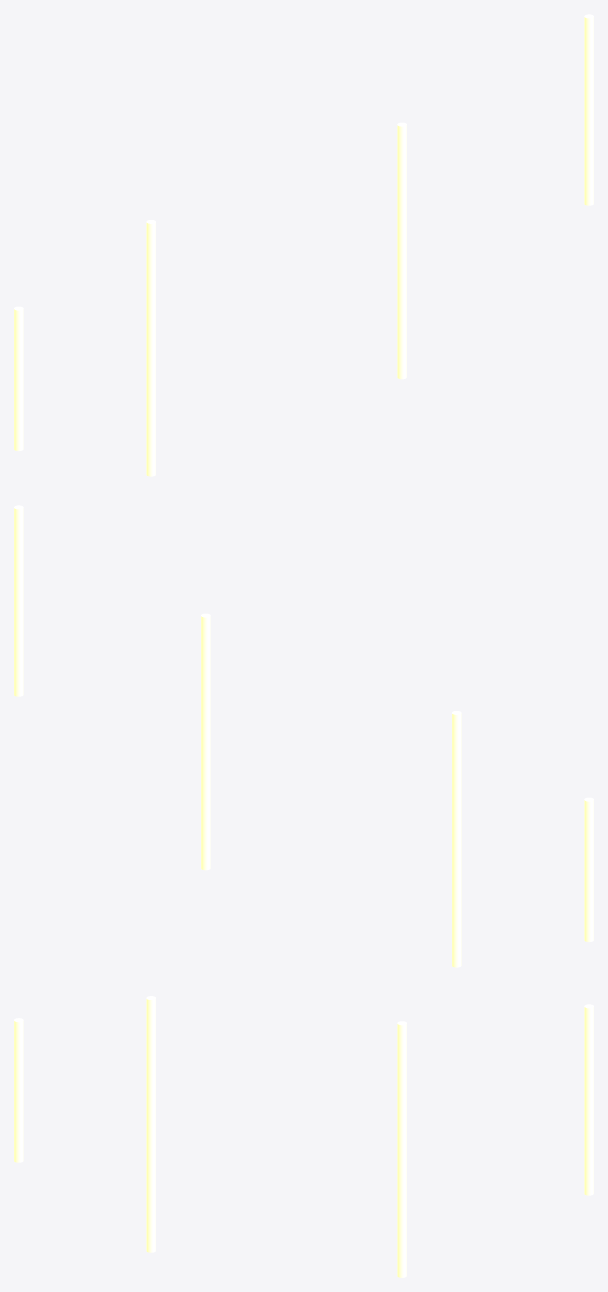
The model's file is lights.glb.
The picture shows the model from 3 angles, top to bottom: view 1: azimuth 30°, elevation 25°; view 2: azimuth 150°, elevation 25°; view 3: azimuth 330°, elevation 25°; orthographic projection.
Parts seen in each view (by area): view 1: Cylinder.002; view 2: Cylinder.002; view 3: Cylinder.002.
Part boxes in pixels (x1=…): Cylinder.002: x1=14, y1=14, x2=593, y2=476; Cylinder.002: x1=14, y1=505, x2=593, y2=967; Cylinder.002: x1=14, y1=996, x2=593, y2=1277.
Bounding box in the file's own units: 28.6 × 16.59 × 0.414.
